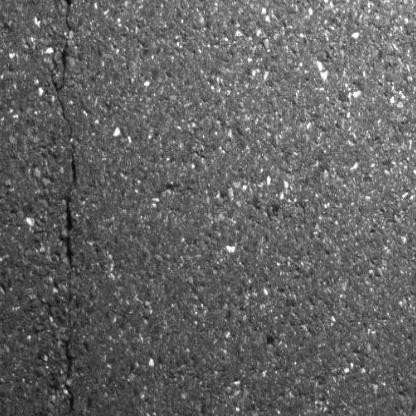Cracks: (53, 0, 82, 416)
